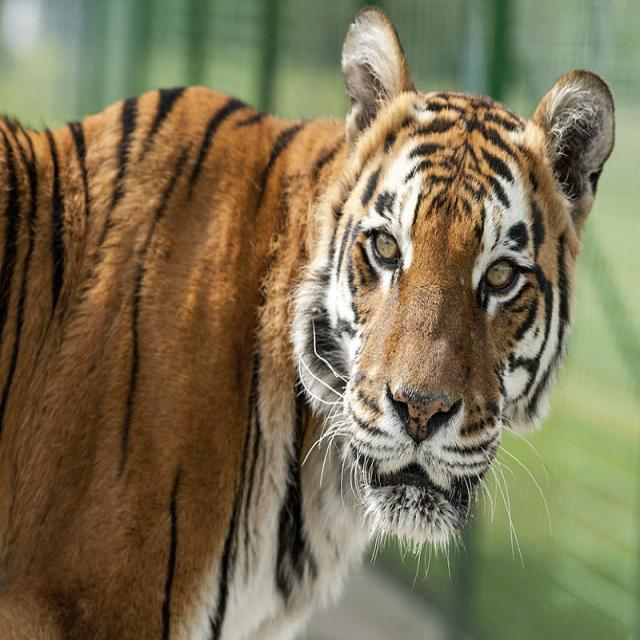Tiger: (0, 1, 618, 636)
